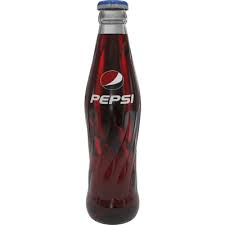pepsi: (89, 93, 138, 108), (98, 70, 129, 92)
